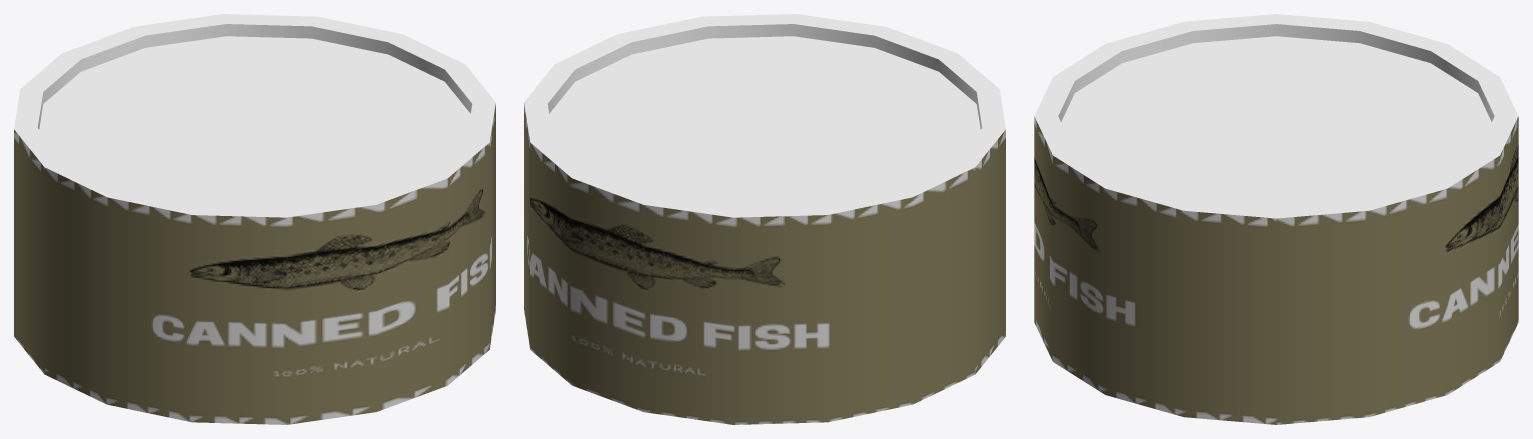
Rendered from Canned_Food_2.fbx.
3 views of the same model, side by side, from view 1: azimuth 30°, elevation 25°; view 2: azimuth 150°, elevation 25°; view 3: azimuth 270°, elevation 25° (orthographic).
Visible parts, largest first — view 1: Canned_Food_2; view 2: Canned_Food_2; view 3: Canned_Food_2.
Boxes of the visible parts, x1,y1,x2,y2 form: Canned_Food_2: (14,14,495,424); Canned_Food_2: (524,14,1005,424); Canned_Food_2: (1034,14,1518,424).
Size of the model in its own units: 8.5 by 4 by 8.5.
